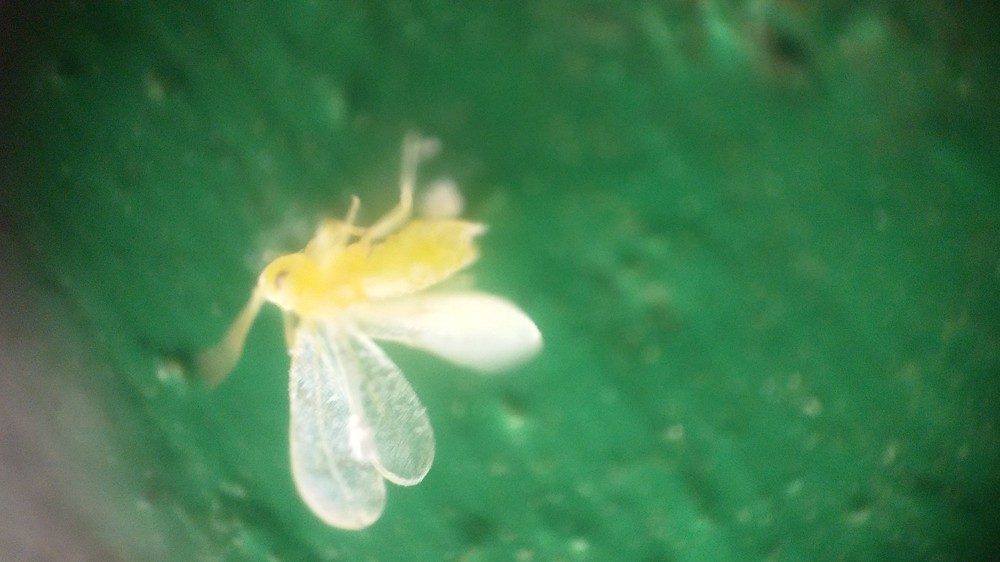Mosca Blanca: (185, 125, 577, 546)
